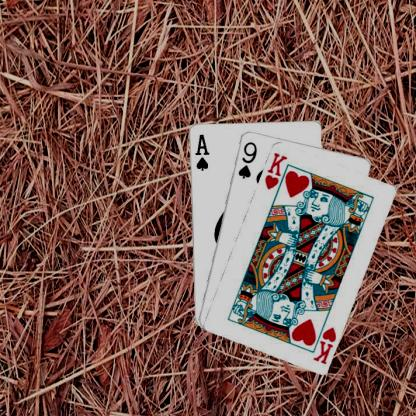9S: (235, 138, 258, 180)
AS: (192, 131, 210, 171)
KH: (310, 324, 337, 365), (262, 150, 288, 190)
